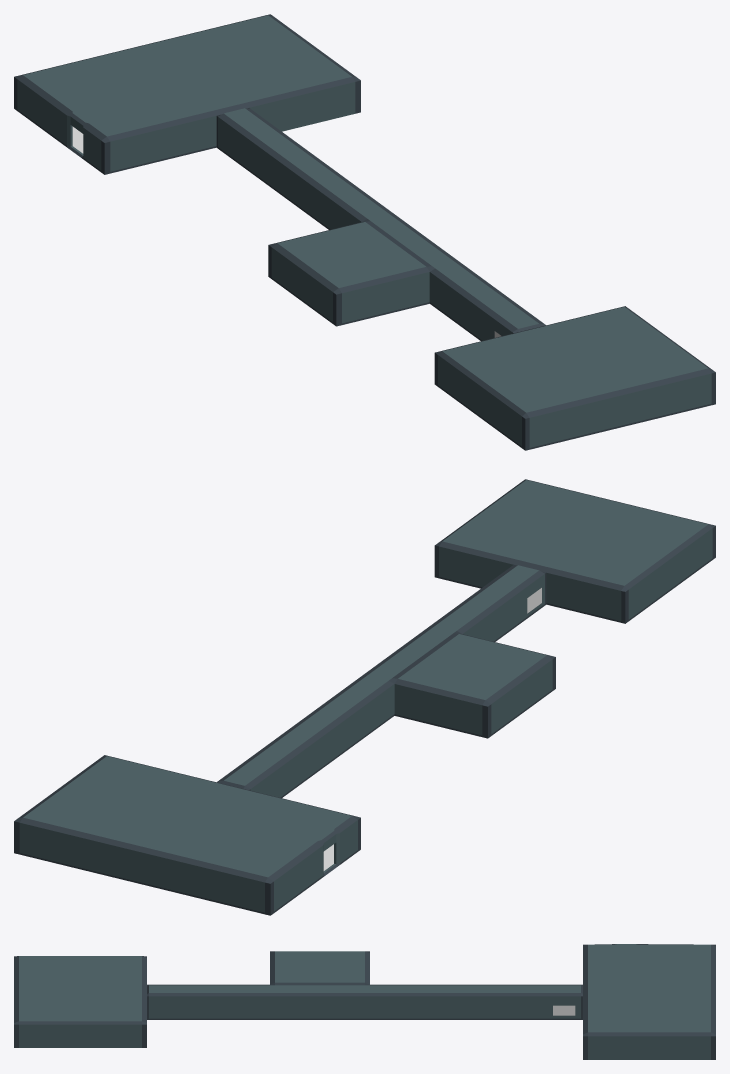
The model's file is MapPrototype2.fbx.
The picture shows the model from 3 angles, top to bottom: view 1: azimuth 30°, elevation 25°; view 2: azimuth 150°, elevation 25°; view 3: azimuth 270°, elevation 25°; orthographic projection. The views are drawn at different scales.
Visible parts, largest first — view 1: Cube; view 2: Cube; view 3: Cube.
Part boxes in pixels (x1,y1,x2,y2): Cube: (14, 14, 715, 450); Cube: (14, 479, 715, 915); Cube: (14, 944, 715, 1059).
Size of the model in its own units: 31400 by 4053 by 101395.
